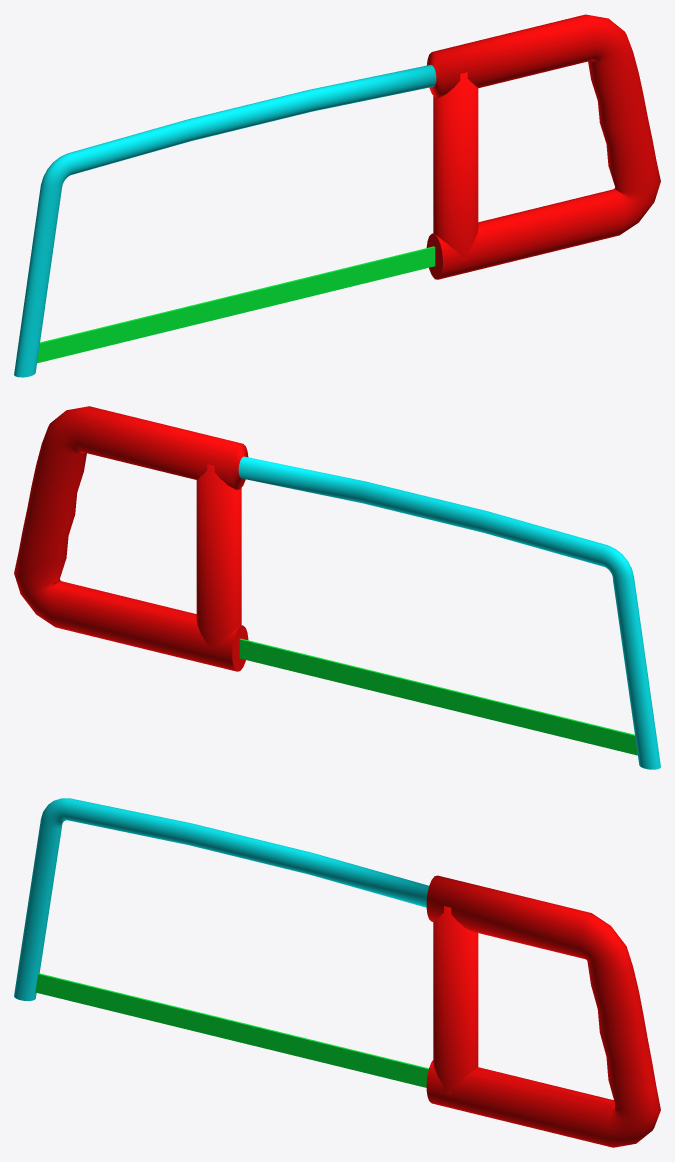
The model's file is Hacksaw.fbx.
3 views of the same model, one above another, from view 1: azimuth 30°, elevation 25°; view 2: azimuth 150°, elevation 25°; view 3: azimuth 330°, elevation 25° (orthographic).
Parts seen in each view (by area): view 1: Cylinder001; view 2: Cylinder001; view 3: Cylinder001.
Part boxes in pixels (x1,y1,x2,y2): Cylinder001: [14, 14, 660, 377]; Cylinder001: [14, 406, 660, 769]; Cylinder001: [14, 798, 660, 1147].
Size of the model in its own units: 315 by 106 by 14.03.
